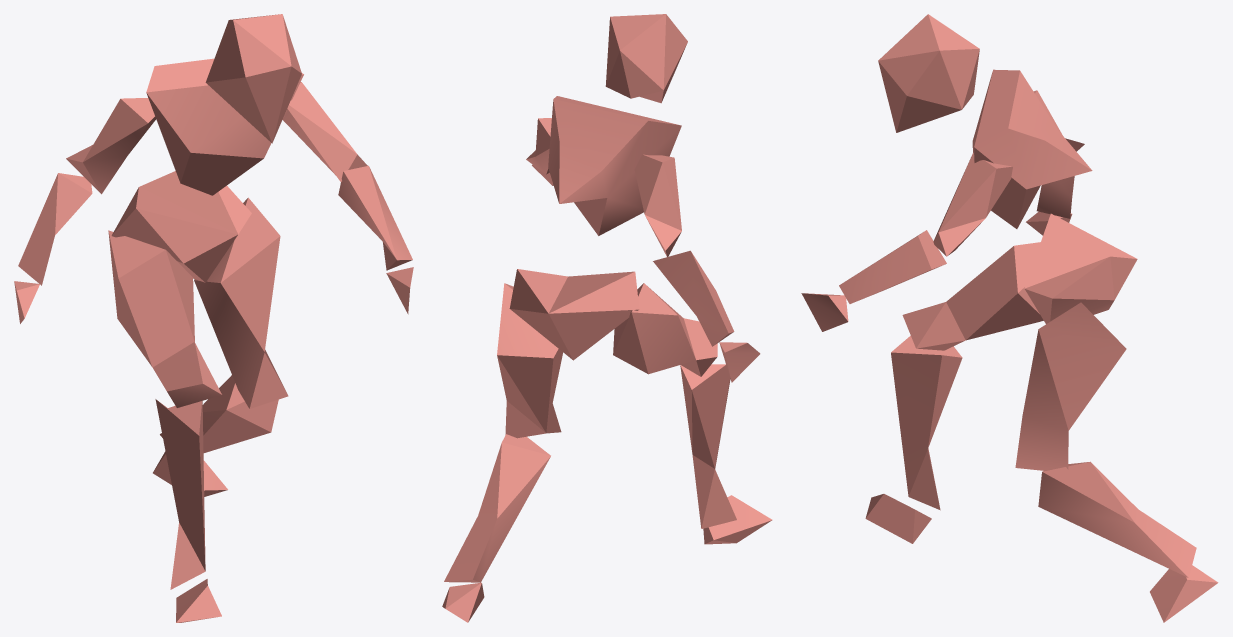
The model's file is zombie_running_static.fbx.
The picture shows the model from 3 angles, left to right: view 1: azimuth 30°, elevation 25°; view 2: azimuth 150°, elevation 25°; view 3: azimuth 270°, elevation 25°; orthographic projection. The views are drawn at different scales.
Parts seen in each view (by area): view 1: Zombie_Running_baked; view 2: Zombie_Running_baked; view 3: Zombie_Running_baked.
Boxes of the visible parts, x1,y1,x2,y2 form: Zombie_Running_baked: (14, 14, 413, 622); Zombie_Running_baked: (442, 14, 772, 622); Zombie_Running_baked: (801, 14, 1218, 622).
Size of the model in its own units: 80.13 by 150 by 102.
